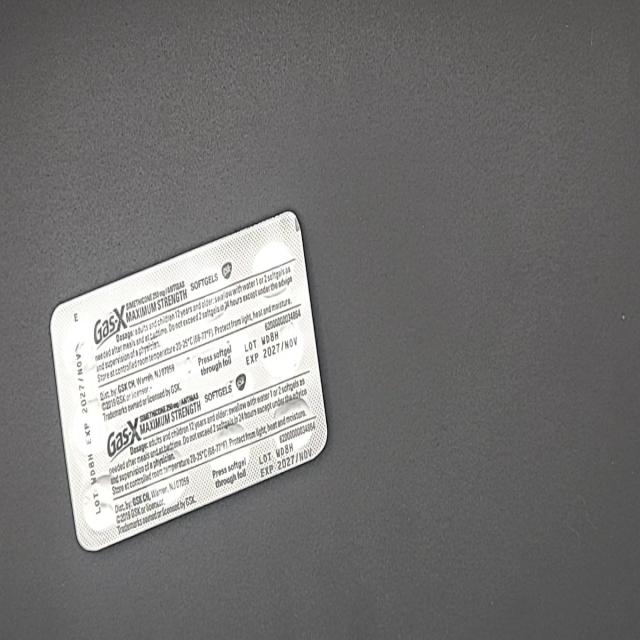no defect: (1, 9, 24, 49)
